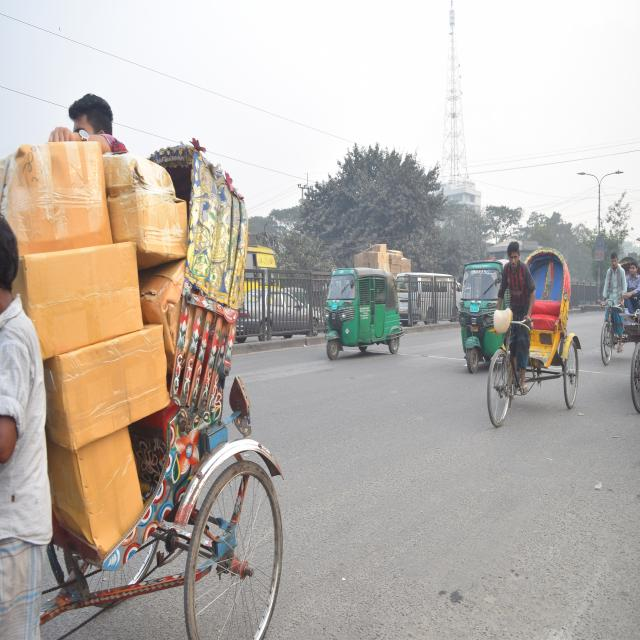car: (241, 282, 321, 343)
microbus: (398, 266, 462, 324)
